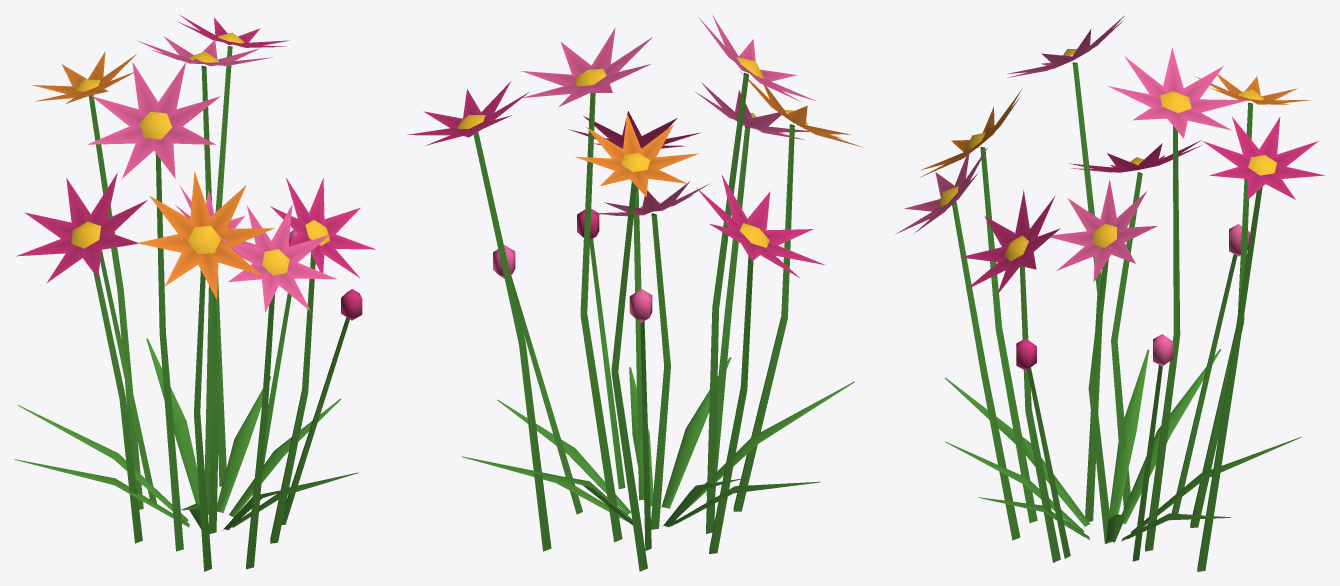
The model's file is flowers-a.glb.
3 renders of one model, left to right at view 1: azimuth 30°, elevation 25°; view 2: azimuth 150°, elevation 25°; view 3: azimuth 270°, elevation 25°, orthographic. The views are drawn at different scales.
Parts seen in each view (by area): view 1: Flowers A Stem, Flowers A Cosmos pink, Flowers A Cosmos magenta, Flowers A Cosmos orange, Flowers A Flower centre; view 2: Flowers A Stem, Flowers A Cosmos pink, Flowers A Cosmos magenta, Flowers A Cosmos orange, Flowers A Flower centre; view 3: Flowers A Stem, Flowers A Cosmos pink, Flowers A Cosmos magenta, Flowers A Flower centre, Flowers A Cosmos orange.
Part boxes in pixels (left/top/right/bottom): Flowers A Stem: left=14, top=46, right=358, bottom=571; Flowers A Cosmos pink: left=87, top=36, right=336, bottom=312; Flowers A Cosmos magenta: left=16, top=14, right=376, bottom=320; Flowers A Cosmos orange: left=32, top=51, right=274, bottom=299; Flowers A Flower centre: left=71, top=32, right=330, bottom=275; Flowers A Stem: left=462, top=73, right=854, bottom=571; Flowers A Cosmos pink: left=493, top=15, right=815, bottom=322; Flowers A Cosmos magenta: left=407, top=81, right=825, bottom=278; Flowers A Cosmos orange: left=574, top=70, right=864, bottom=196; Flowers A Flower centre: left=457, top=57, right=808, bottom=247; Flowers A Stem: left=944, top=62, right=1301, bottom=571; Flowers A Cosmos pink: left=895, top=15, right=1249, bottom=366; Flowers A Cosmos magenta: left=960, top=117, right=1325, bottom=370; Flowers A Flower centre: left=938, top=49, right=1276, bottom=261; Flowers A Cosmos orange: left=920, top=74, right=1310, bottom=177.
Size of the model in its own units: 0.6387 by 0.9103 by 0.7151.
